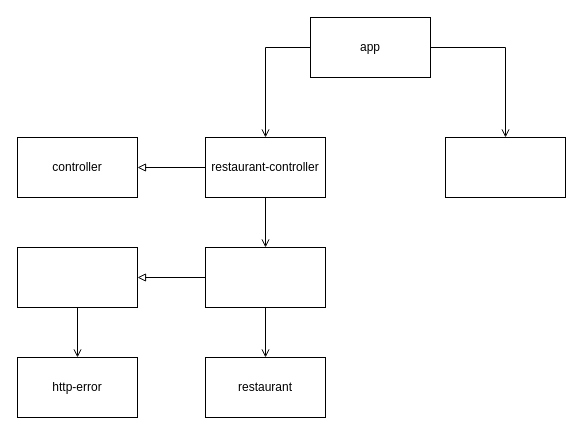
This 583x435 diagram has some shape labels left out. The shapes that lost their labels are listed below. From the top down, each one's box as (x1, y1, x2, y2) in pixels, then its label:
(444, 136, 566, 198): db-connector
(16, 246, 138, 308): repository
(204, 246, 326, 308): restaurant-repository
